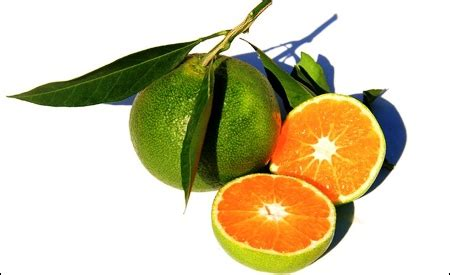orange: (127, 50, 285, 192)
